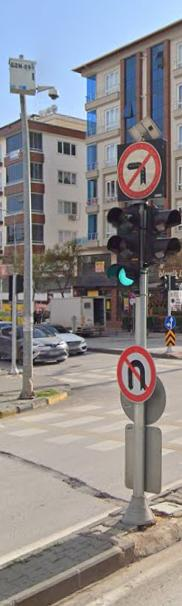greenlight: (107, 210, 140, 289)
leftturnsareforbidden: (118, 144, 162, 196)
